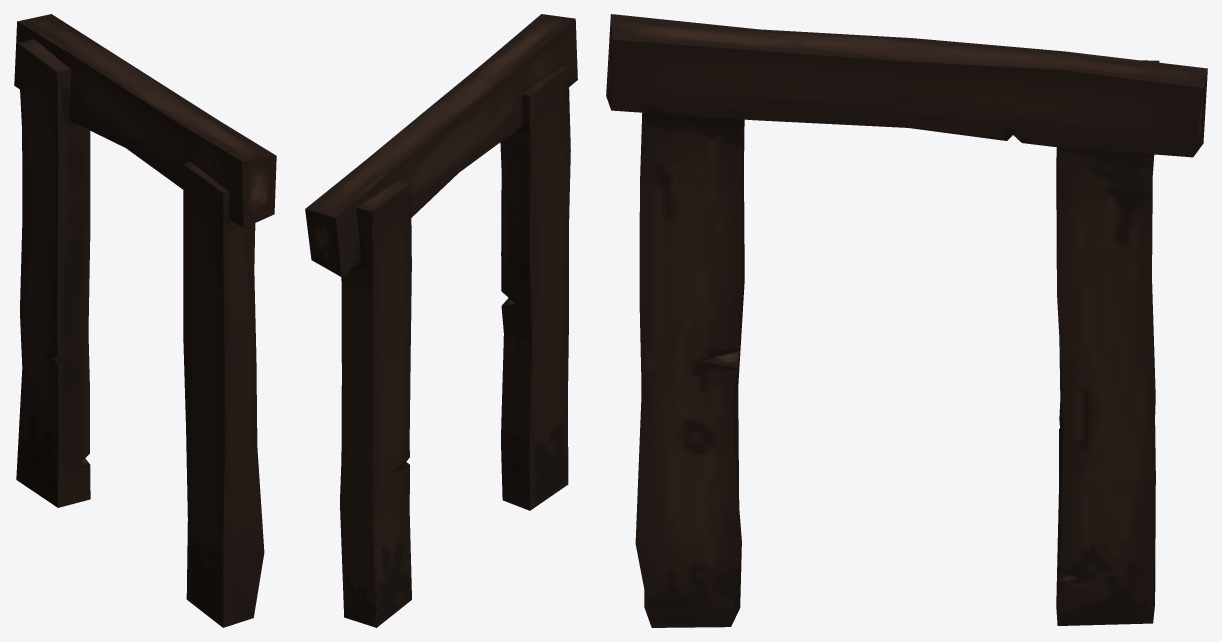
Rendered from WoodFrame.fbx.
3 views of the same model, side by side, from view 1: azimuth 30°, elevation 25°; view 2: azimuth 150°, elevation 25°; view 3: azimuth 270°, elevation 25° (orthographic). The views are drawn at different scales.
Visible parts, largest first — view 1: WoodFrame; view 2: WoodFrame; view 3: WoodFrame.
Part boxes in pixels (x1,y1,x2,y2): WoodFrame: [14, 14, 276, 627]; WoodFrame: [305, 14, 577, 627]; WoodFrame: [606, 14, 1207, 627].
Bounding box in the file's own units: 0.4426 × 3.66 × 3.34.
